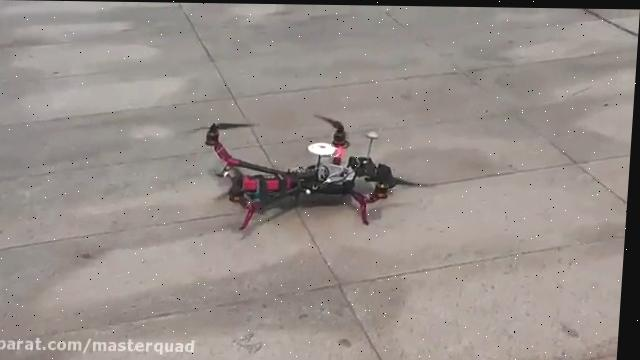drone: (168, 106, 437, 234)
